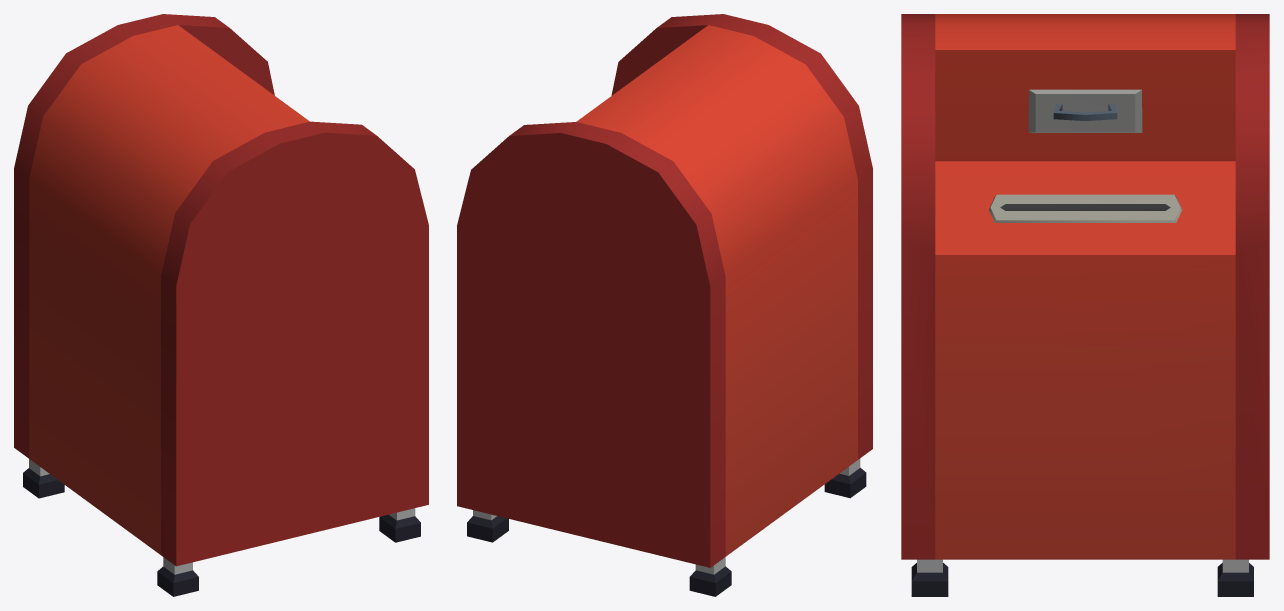
File: PostBox_1_E.glb
3 views of the same model, side by side, from view 1: azimuth 30°, elevation 25°; view 2: azimuth 150°, elevation 25°; view 3: azimuth 270°, elevation 25° (orthographic). The views are drawn at different scales.
Parts seen in each view (by area): view 1: PostBox_1_E; view 2: PostBox_1_E; view 3: PostBox_1_E.
Boxes of the visible parts, x1,y1,x2,y2 form: PostBox_1_E: (14,14,428,596); PostBox_1_E: (457,14,872,596); PostBox_1_E: (901,14,1269,596).
Size of the model in its own units: 0.5121 by 0.8366 by 0.5689.
2 materials, 2 textured.
